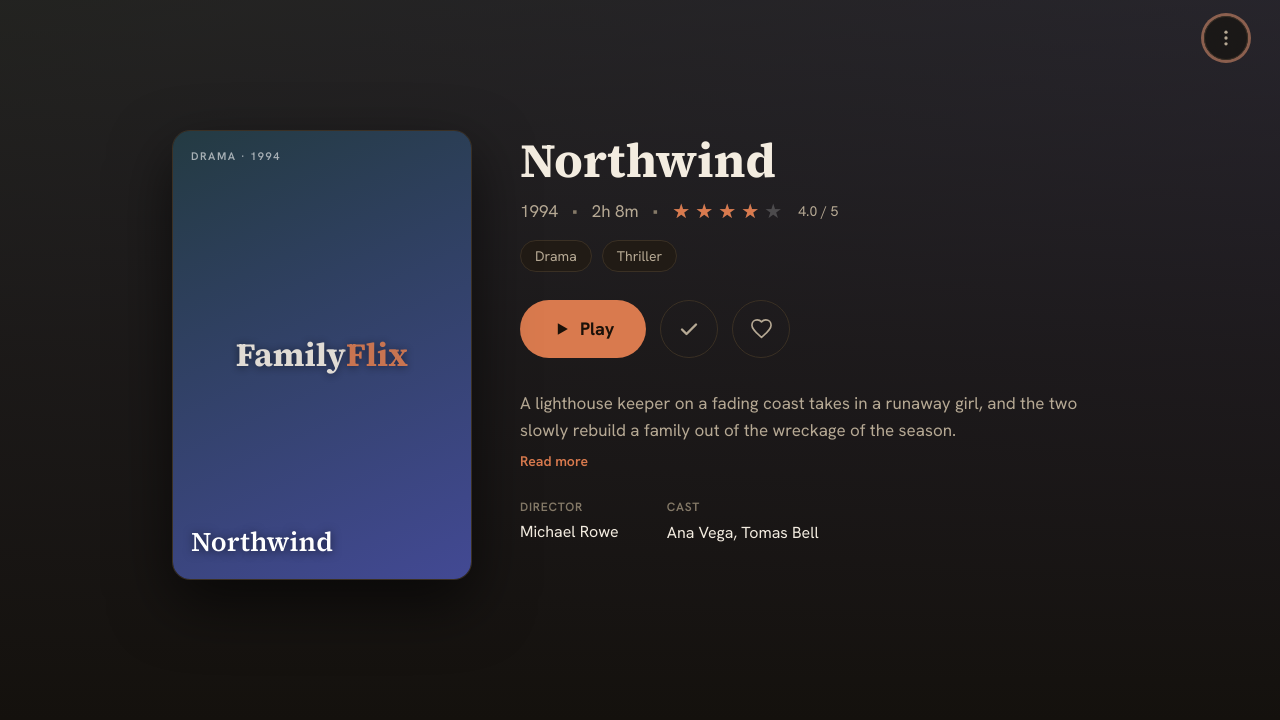
it: MovieDetail — the edit menu › holds Edit details and, after it, Delete movie
The image size is (1280, 720).
Click the button named "more options".
click(1226, 38)  # box [1204,16,1248,60]
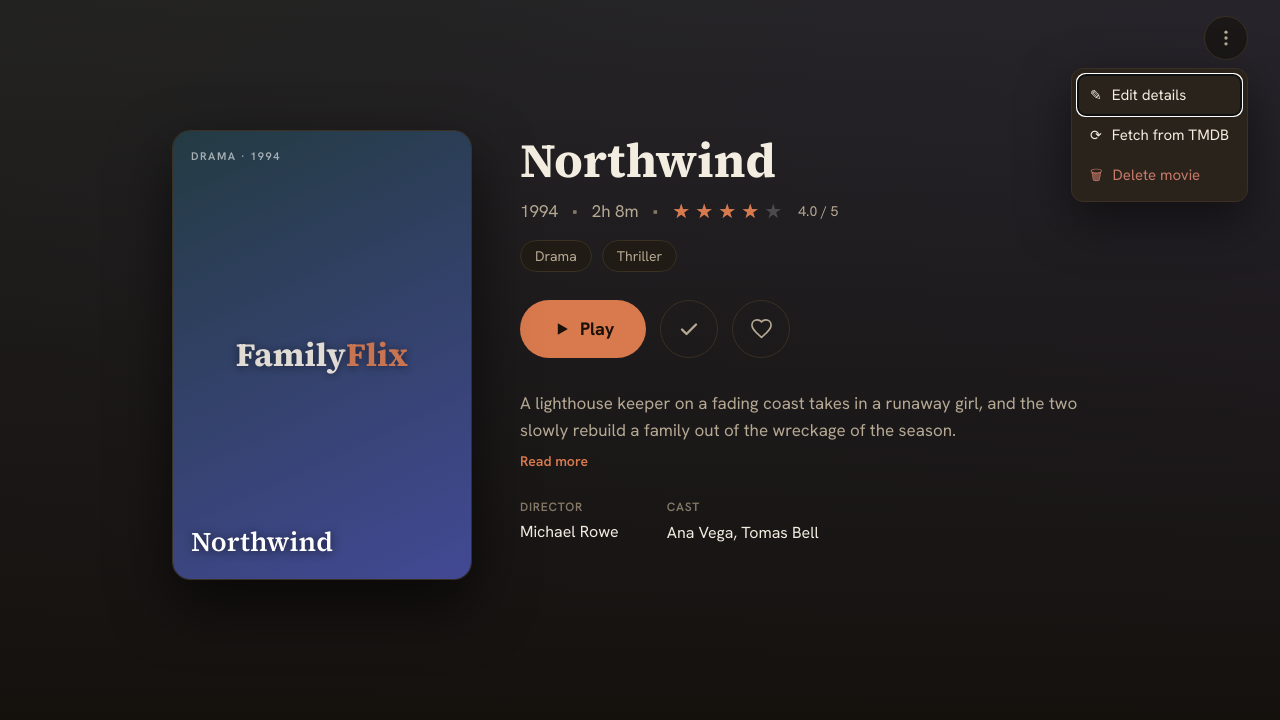
Expected: the menu item "✎ Edit details" is shown, [1078,75,1241,115]
Expected: the menu item "🗑 Delete movie" is shown, [1078,155,1241,195]
